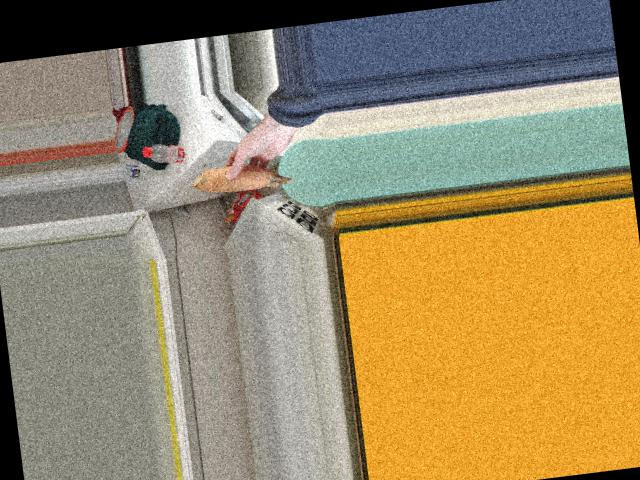sweet_potato: (197, 155, 286, 197)
